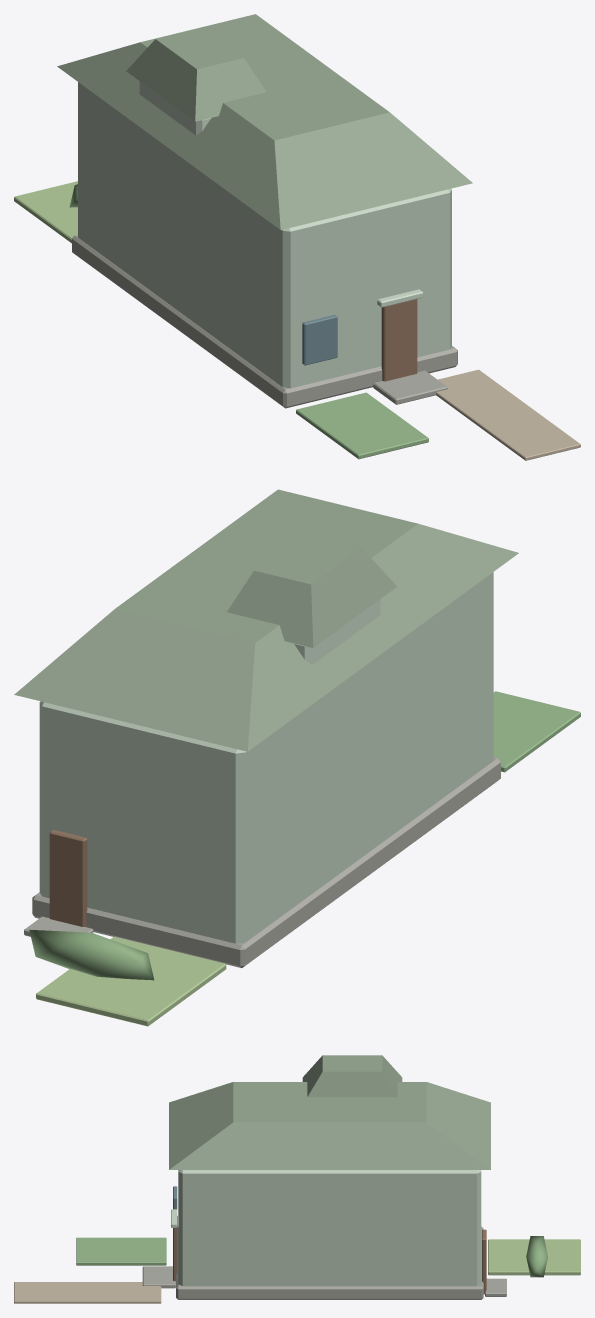
The model's file is garden_lane_house_v1.lod1.glb.
3 views of the same model, one above another, from view 1: azimuth 30°, elevation 25°; view 2: azimuth 150°, elevation 25°; view 3: azimuth 270°, elevation 25° (orthographic). The views are drawn at different scales.
Parts seen in each view (by area): view 1: MainBody, MainRoof, TowerCap, StonePlinth, Driveway, FrontGreenVerge, PublicDoor, RearYardPatch, FrontWindow1, PublicStep, GardenTower; view 2: MainBody, MainRoof, TowerCap, StonePlinth, RearYardPatch, RearHedge, FrontGreenVerge, ServiceDoor, GardenTower; view 3: MainBody, MainRoof, StonePlinth, TowerCap, Driveway, RearYardPatch, FrontGreenVerge, RearHedge, PublicStep, ServiceStep.
Boxes of the visible parts, bbox=[...] form: MainBody: bbox=[78, 82, 451, 388]; MainRoof: bbox=[57, 14, 472, 229]; TowerCap: bbox=[126, 27, 266, 121]; StonePlinth: bbox=[72, 234, 457, 408]; Driveway: bbox=[436, 369, 580, 460]; FrontGreenVerge: bbox=[296, 392, 428, 459]; PublicDoor: bbox=[381, 299, 417, 381]; RearYardPatch: bbox=[14, 181, 77, 243]; FrontWindow1: bbox=[302, 314, 337, 365]; PublicStep: bbox=[373, 370, 447, 404]; GardenTower: bbox=[139, 81, 210, 135]; MainBody: bbox=[39, 572, 493, 943]; MainRoof: bbox=[14, 489, 518, 751]; TowerCap: bbox=[227, 533, 396, 647]; StonePlinth: bbox=[32, 757, 500, 968]; RearYardPatch: bbox=[36, 936, 226, 1026]; RearHedge: bbox=[29, 929, 154, 980]; FrontGreenVerge: bbox=[493, 691, 580, 772]; ServiceDoor: bbox=[49, 830, 87, 926]; GardenTower: bbox=[294, 599, 380, 664]; MainBody: bbox=[178, 1170, 481, 1286]; MainRoof: bbox=[169, 1082, 490, 1169]; StonePlinth: bbox=[176, 1226, 483, 1299]; TowerCap: bbox=[302, 1055, 402, 1097]; Driveway: bbox=[14, 1282, 161, 1303]; RearYardPatch: bbox=[488, 1239, 580, 1275]; FrontGreenVerge: bbox=[76, 1237, 166, 1265]; RearHedge: bbox=[526, 1236, 547, 1277]; PublicStep: bbox=[142, 1266, 175, 1288]; ServiceStep: bbox=[485, 1278, 506, 1296].
Bounding box in the file's own units: 6.04 × 7.85 × 21.34.
